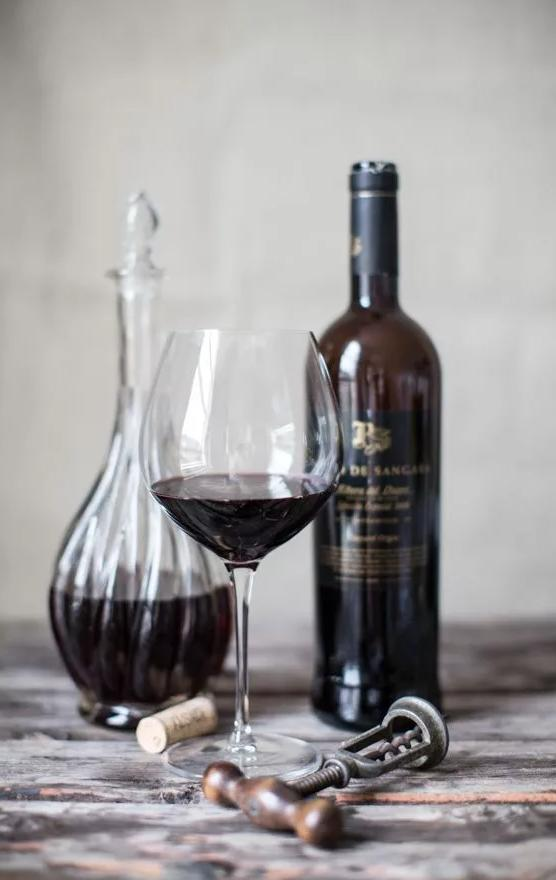wine bottle: (307, 162, 445, 733)
wine label: (310, 405, 432, 591)
